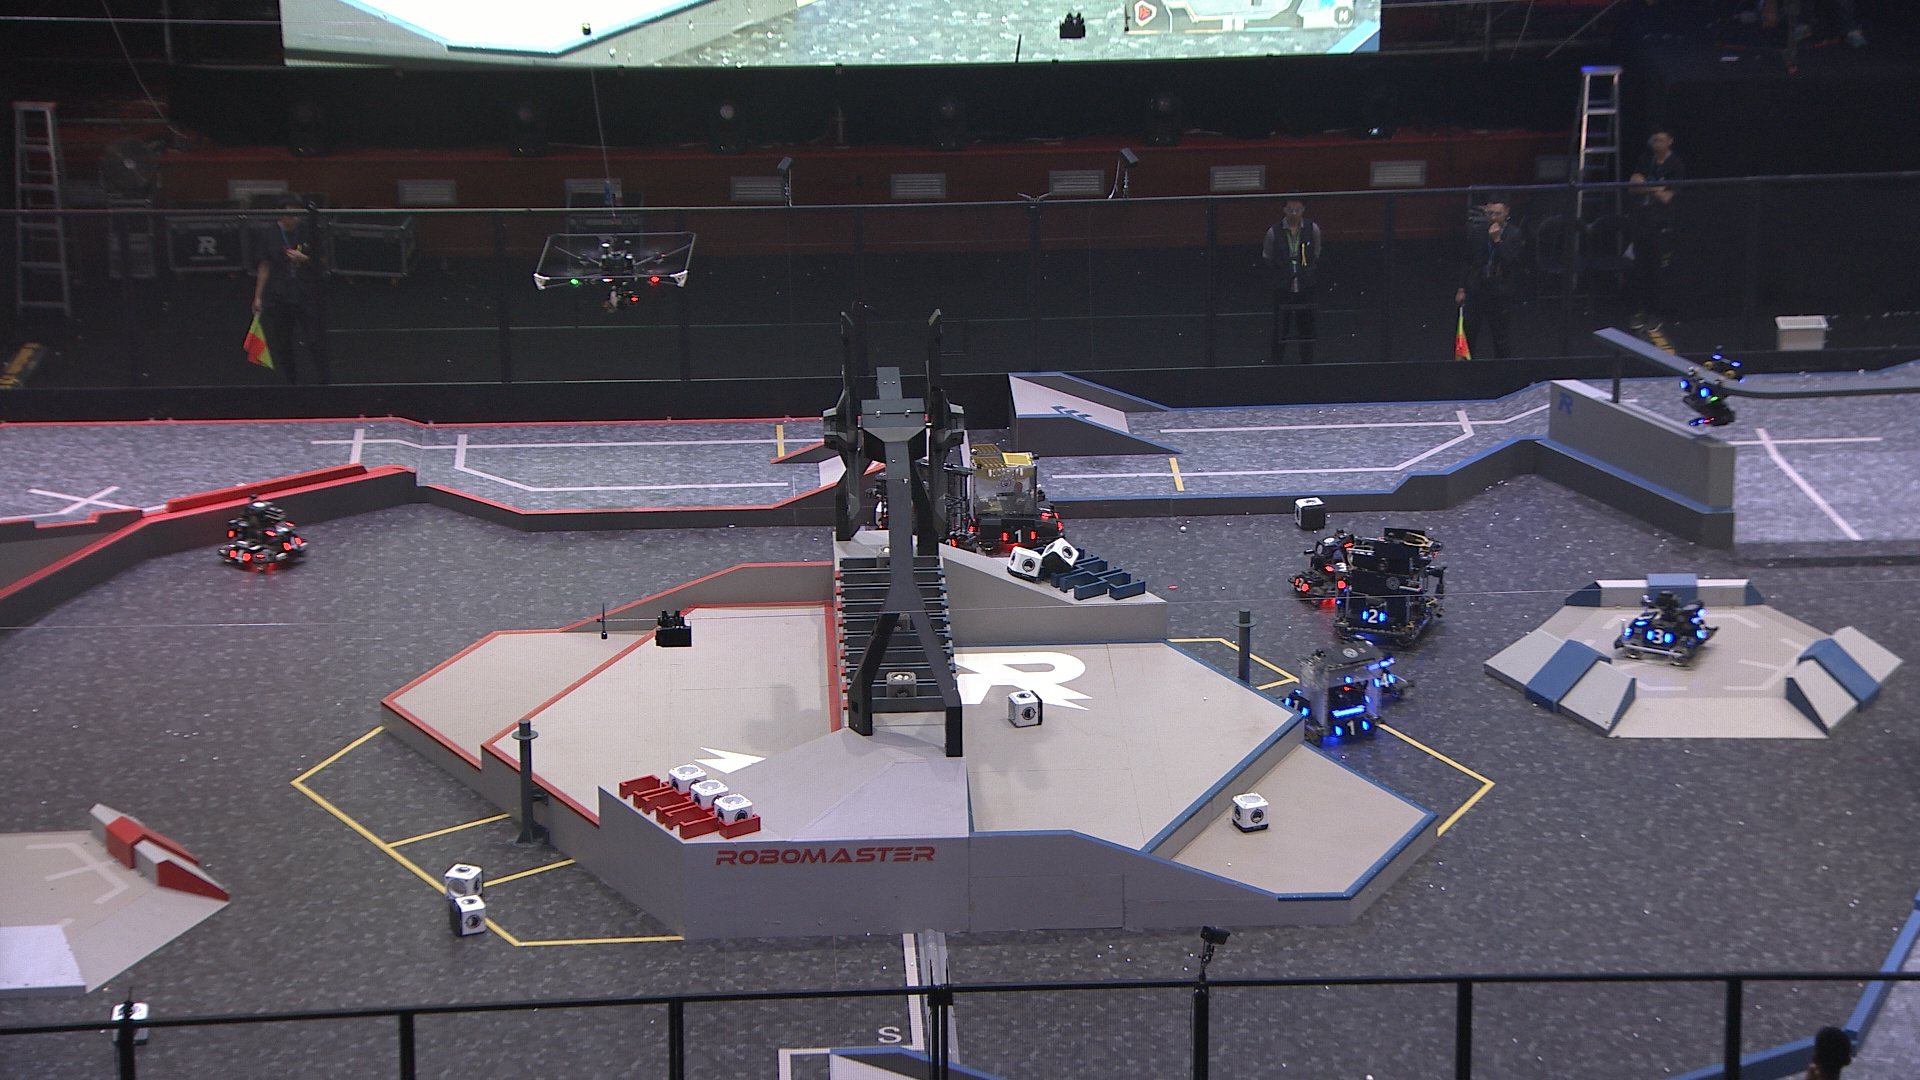armor: (1335, 717, 1370, 737), (1002, 526, 1036, 545), (1677, 377, 1709, 396), (1644, 628, 1673, 647), (1284, 694, 1309, 713), (225, 547, 252, 564), (266, 520, 294, 535), (1035, 498, 1055, 520), (1361, 609, 1385, 626), (1292, 575, 1309, 597), (1634, 611, 1654, 628), (282, 534, 302, 551), (1328, 560, 1352, 574), (1375, 674, 1395, 690), (1697, 621, 1712, 638), (942, 534, 957, 547)
car: (953, 433, 1067, 559), (1335, 524, 1443, 646), (861, 458, 981, 562), (1276, 638, 1385, 746), (1610, 585, 1718, 666), (215, 498, 311, 575), (1284, 527, 1361, 613), (1342, 640, 1419, 705)
watcher: (1677, 353, 1749, 425)
